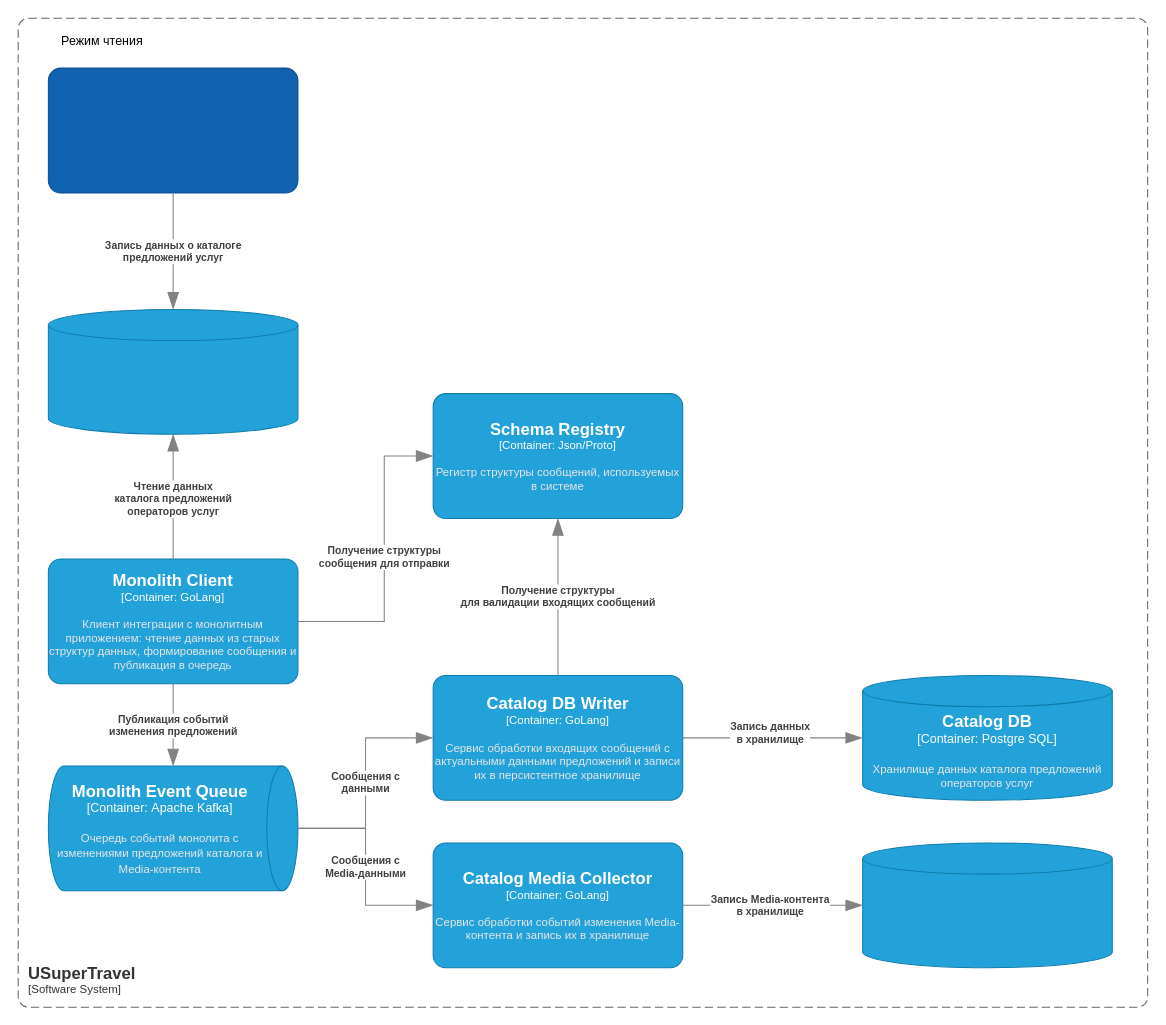
Some shapes in this 1166 by 1025 pixel diagram are drawn without their labels. The shapes that lost their labels are listed below. From the top down, each one's centre as x and y in pixels, then its label:
At point 172,130: "Monolith UST [Software System] Монолитное legacy-приложение".
At point 172,371: "Monolith DB [Container: Postgre SQL] Хранилище данных монолитного приложения".
At point 987,905: "Media DB [Container: S3] Хранилище Media-контента предложений операторов услуг".
